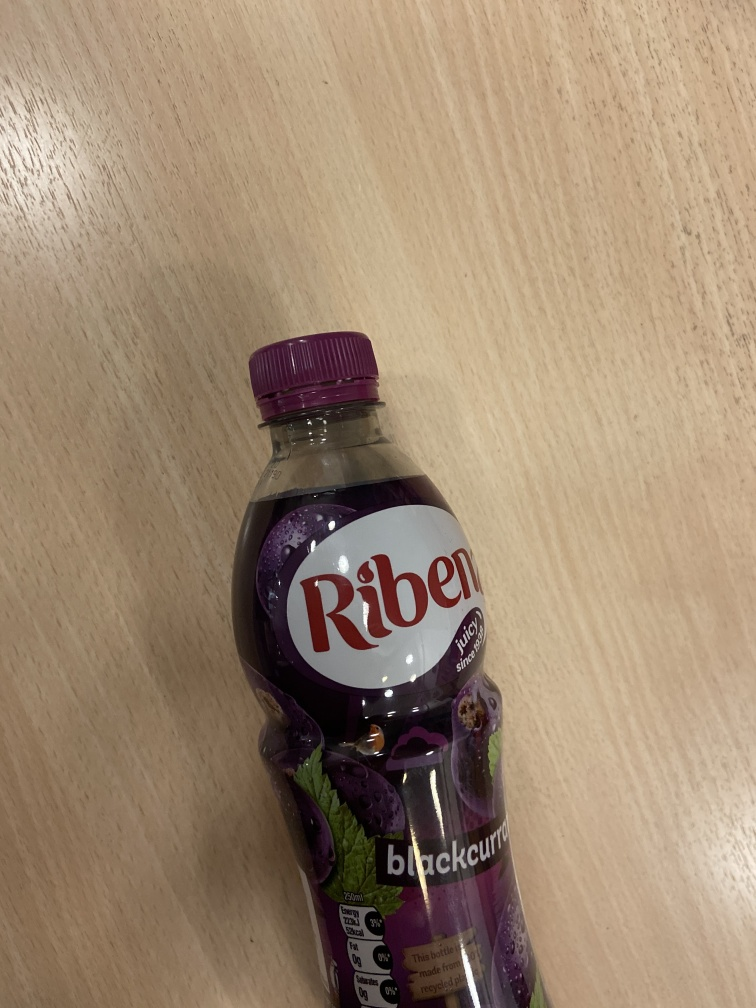bottle_purple: (228, 327, 567, 1008)
